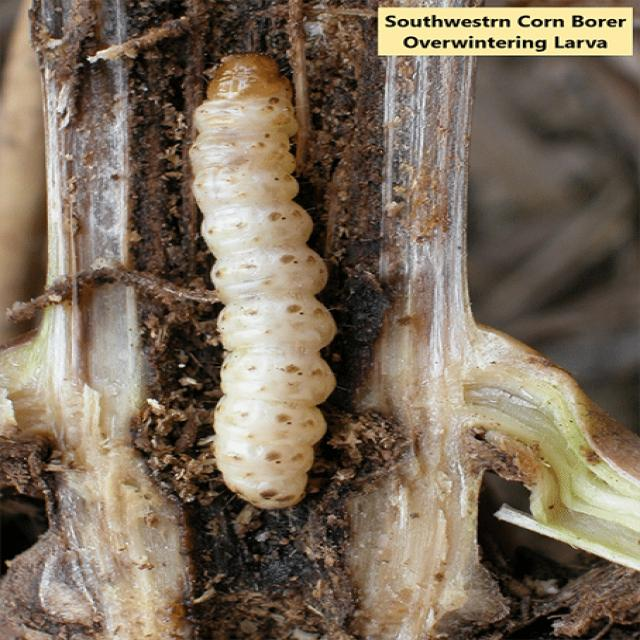cornborer-Larva-: (154, 39, 363, 518)
